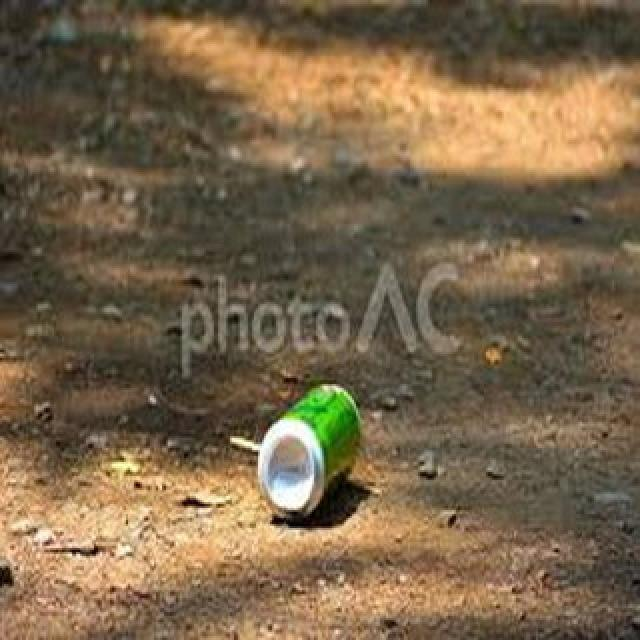can: (256, 381, 364, 512)
